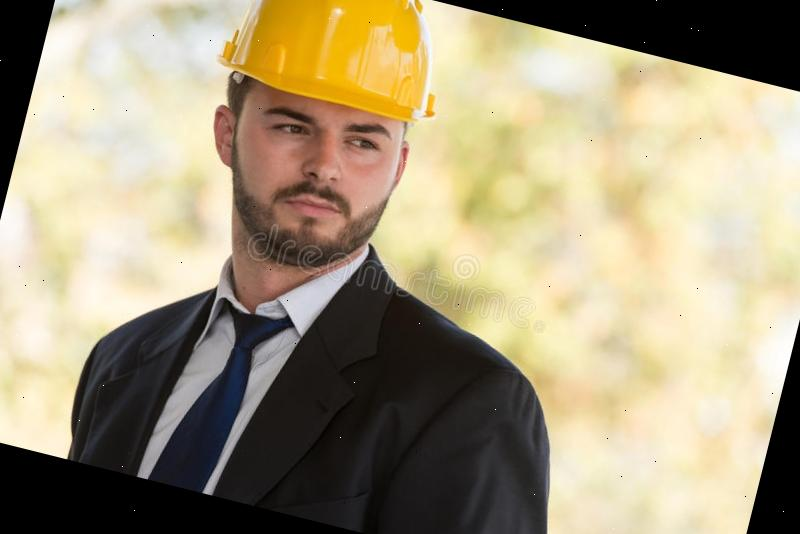helmet: (205, 0, 468, 133)
no_wear: (61, 252, 587, 534)
